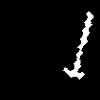half_double_crochet: (63, 12, 92, 78)
